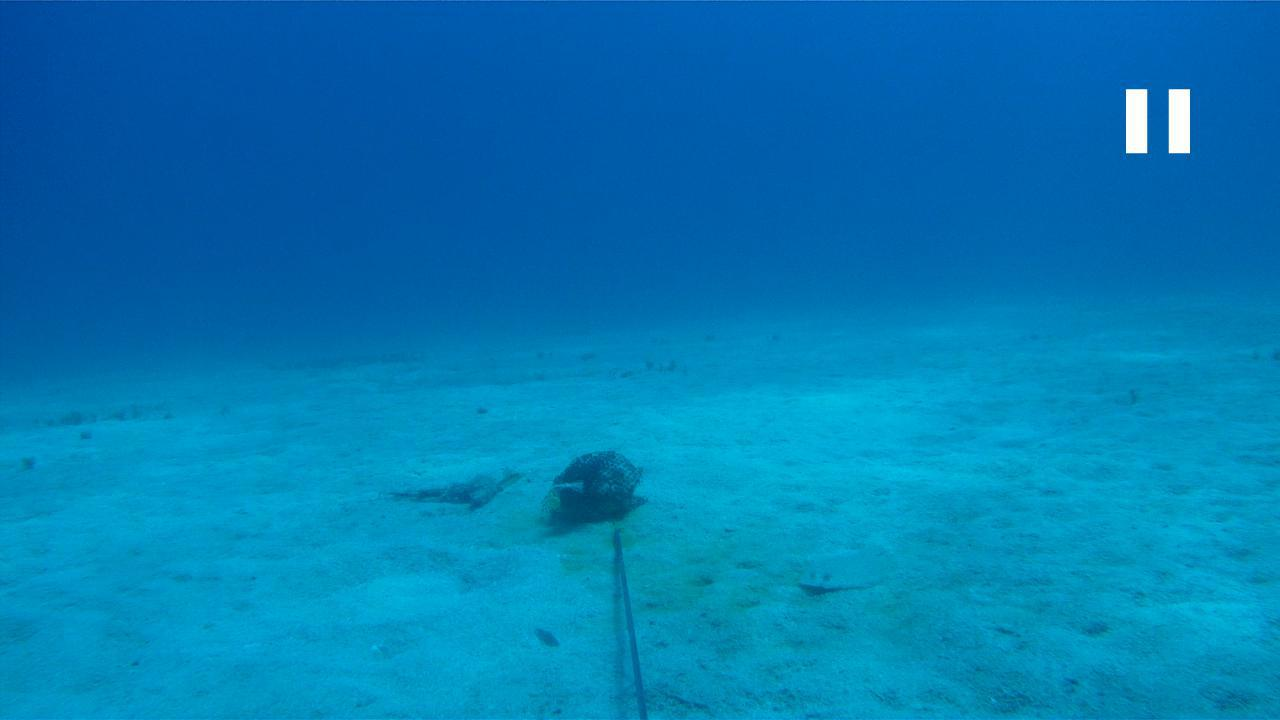bothus: (790, 542, 900, 600)
